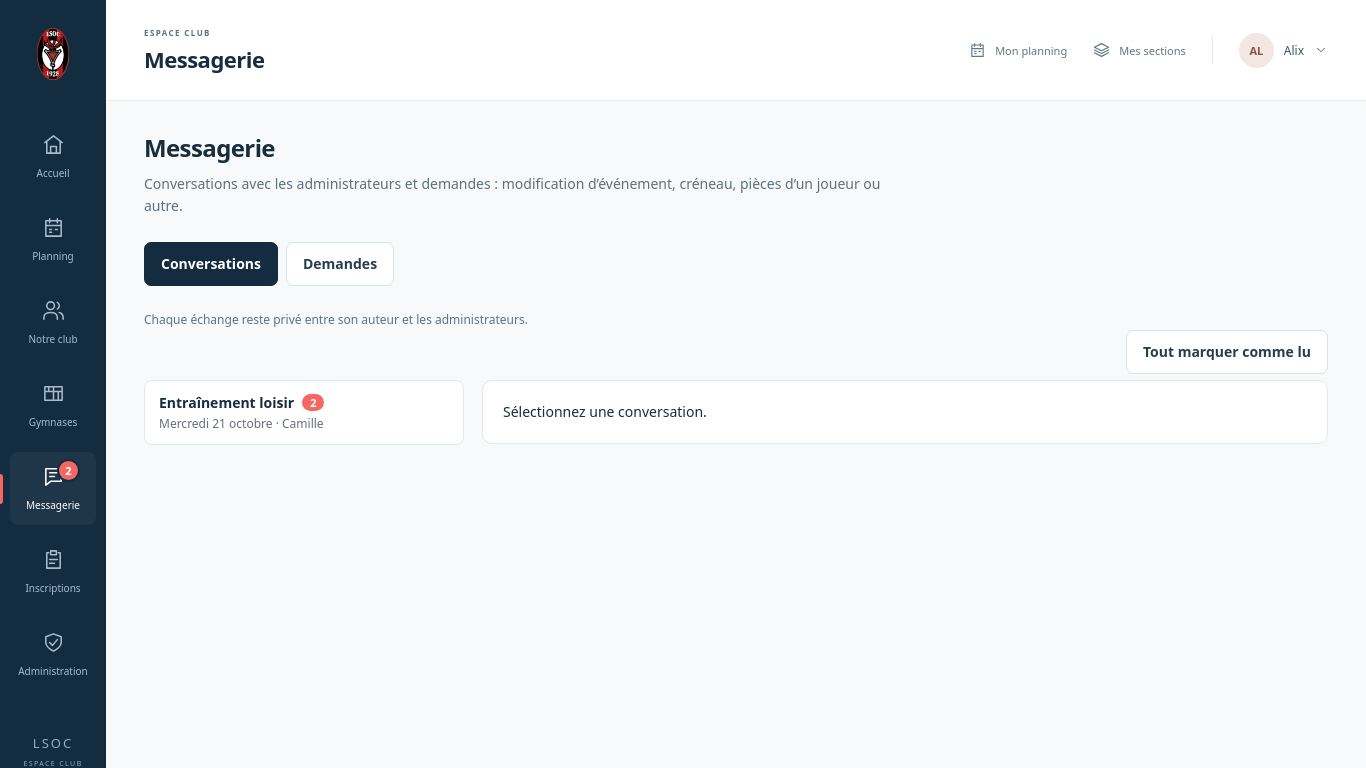
Test case: la messagerie marque toutes les questions comme lues
Expected: the text named "2 questions non lues" is shown, 302,394 -> 324,411
Click the button "Tout marquer comme lu" at (1227, 352), box 1126,330 -> 1328,374
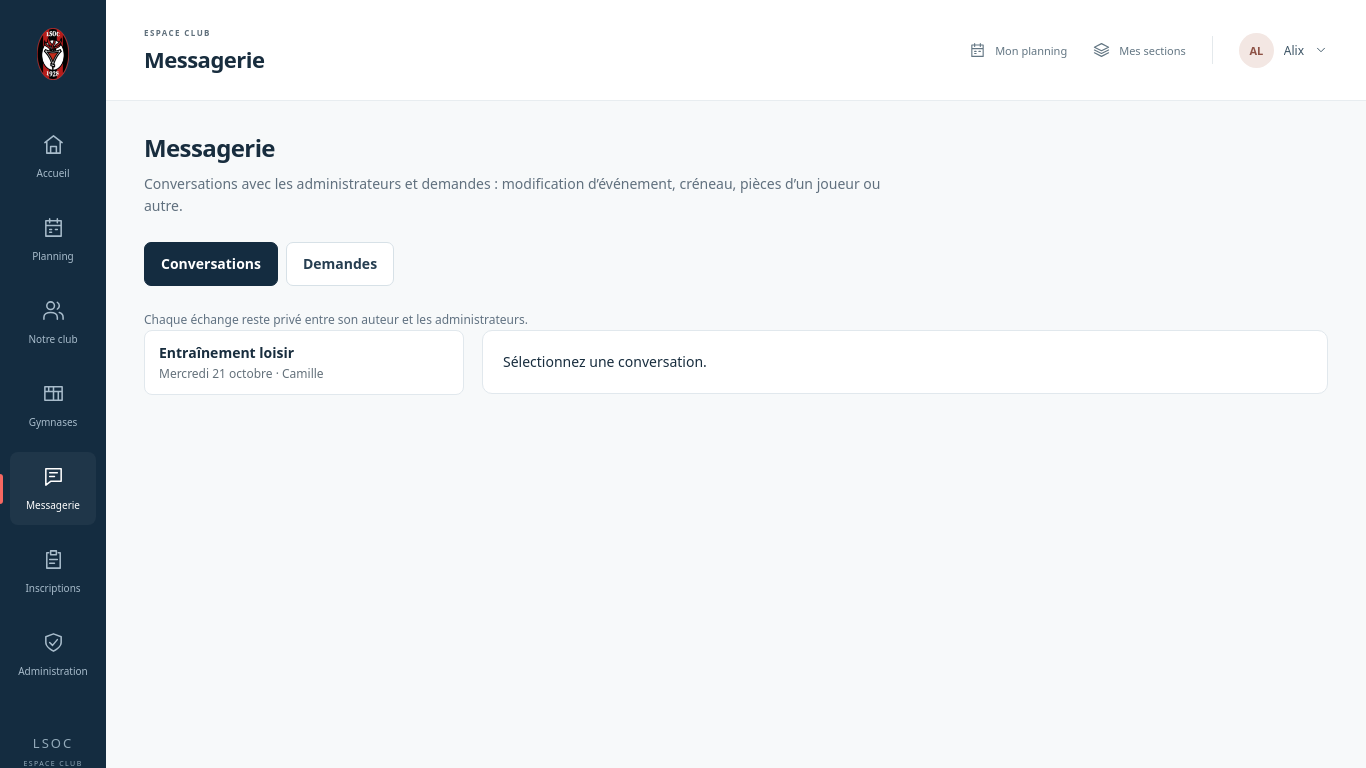
Expected: the button "Tout marquer comme lu" is gone
